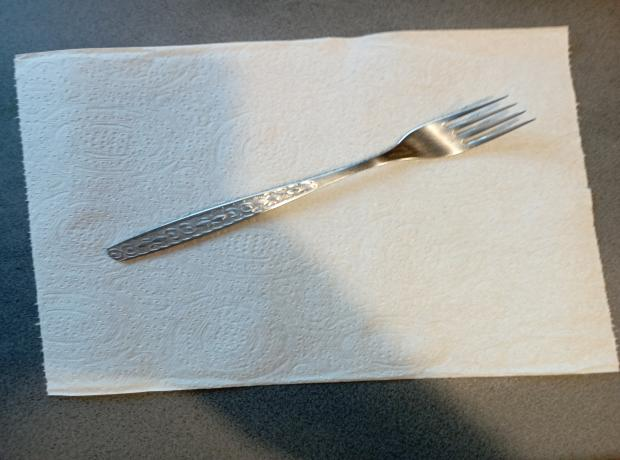metal: (104, 96, 544, 264)
